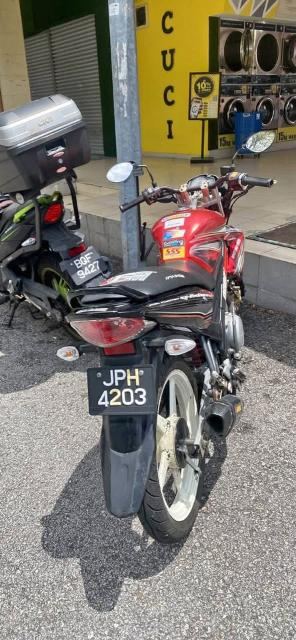License_Plate: (88, 364, 159, 417), (67, 251, 106, 284)
motorcycle: (58, 130, 279, 545), (2, 94, 115, 346)
